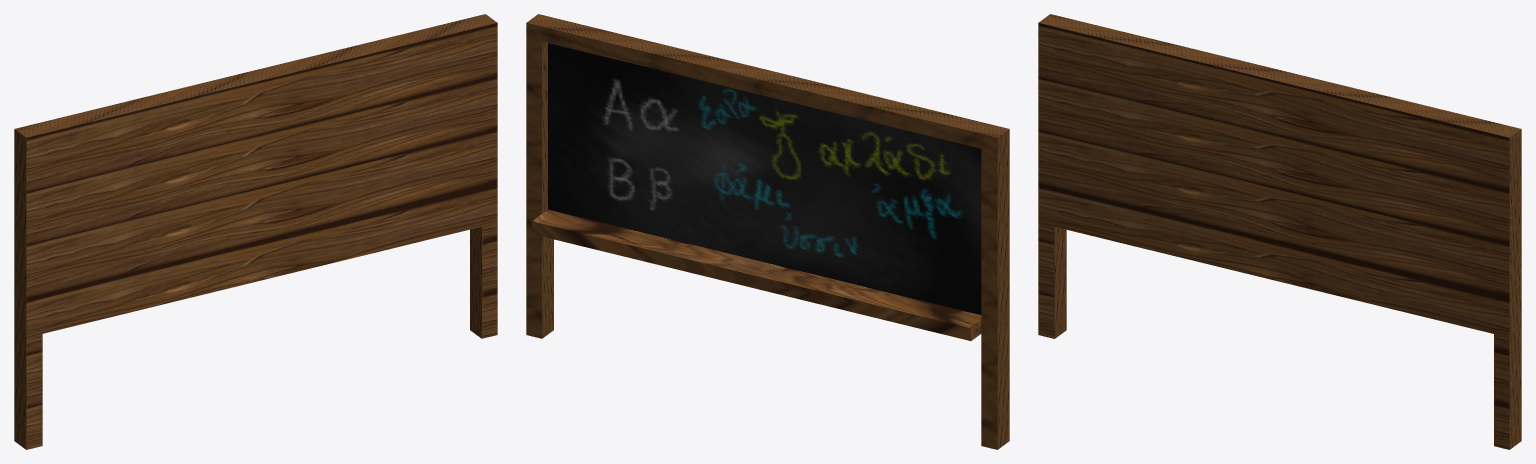
Rendered from board.fbx.
3 views of the same model, side by side, from view 1: azimuth 30°, elevation 25°; view 2: azimuth 150°, elevation 25°; view 3: azimuth 330°, elevation 25° (orthographic).
Parts seen in each view (by area): view 1: the_board; view 2: the_board; view 3: the_board.
Part boxes in pixels (x1=…): the_board: x1=14, y1=14, x2=497, y2=449; the_board: x1=526, y1=14, x2=1009, y2=449; the_board: x1=1038, y1=14, x2=1521, y2=449.
Size of the model in its own units: 372 by 236 by 30.28.
